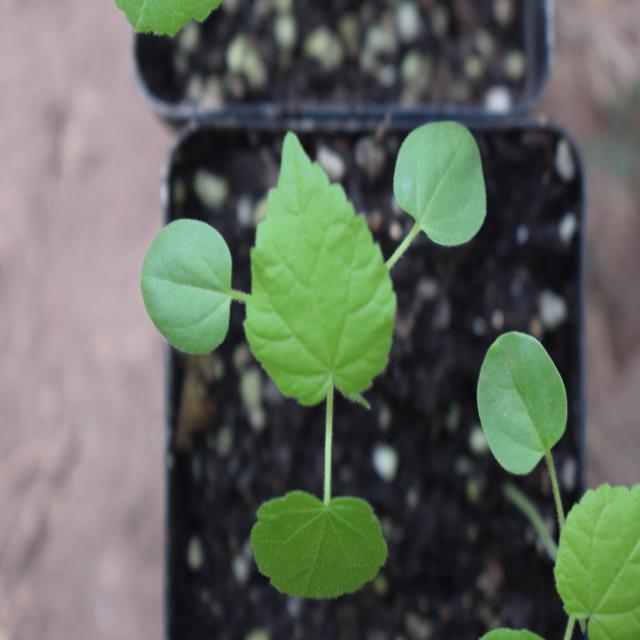abutilon theophrasti: (147, 112, 502, 605)
